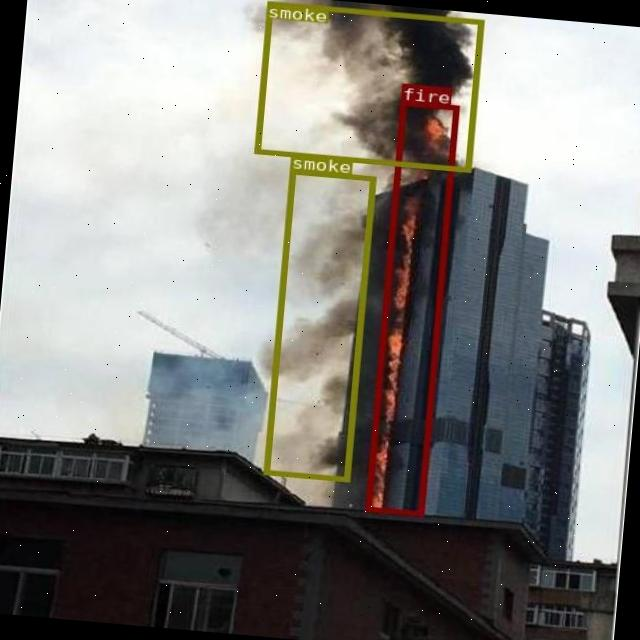fire: (362, 100, 458, 516)
smoke: (252, 0, 483, 172), (262, 168, 374, 480)
